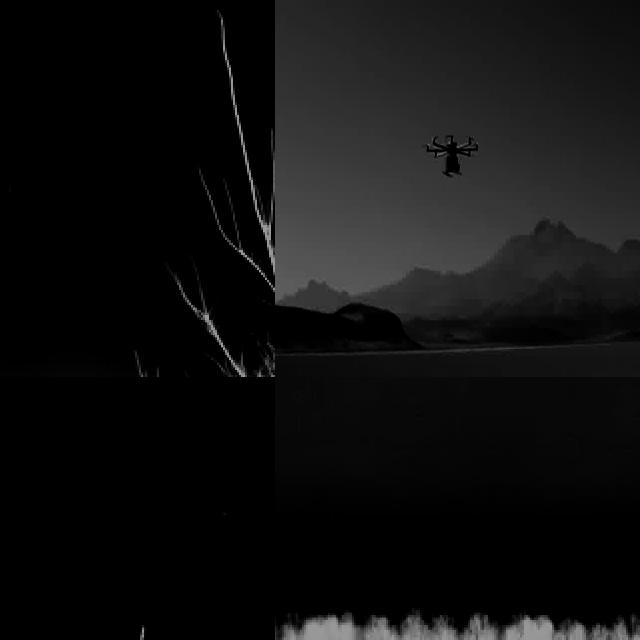0: (210, 500, 234, 532), (0, 173, 21, 206)
drone: (424, 126, 478, 180)
